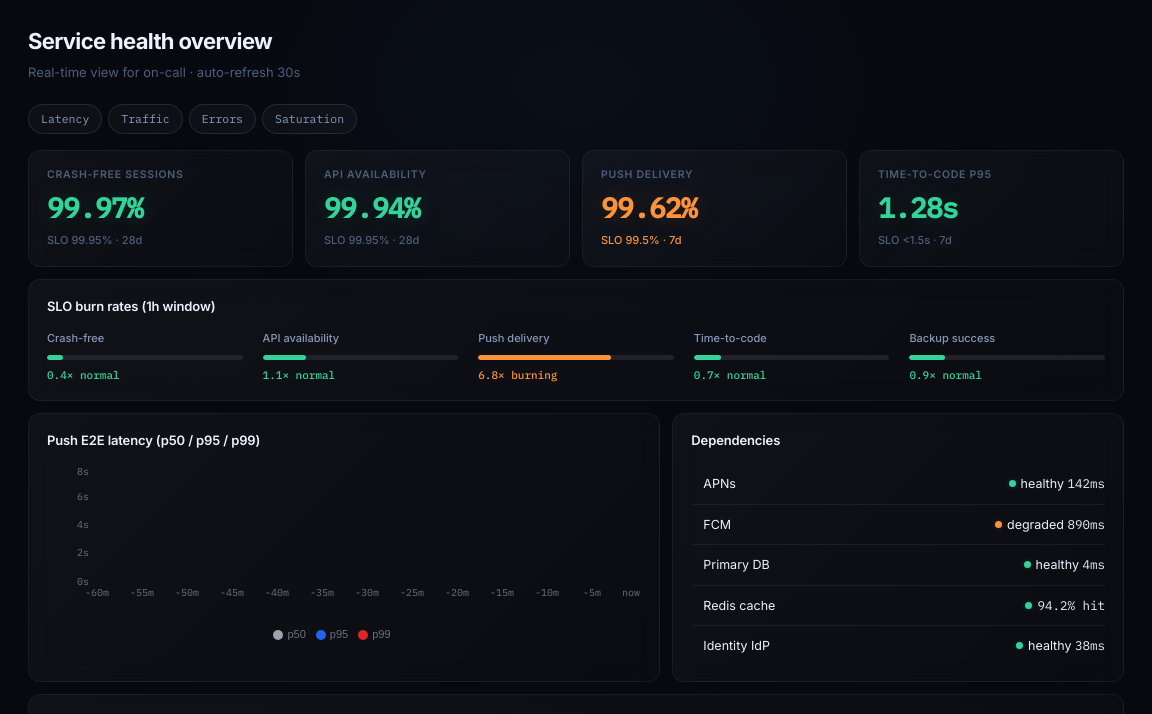
Scenario: SREDashboard — golden signal filter › hides "✕ clear" button after deselecting via the same pill
Click the button "Latency" at (65, 119), box [28,104,102,134]
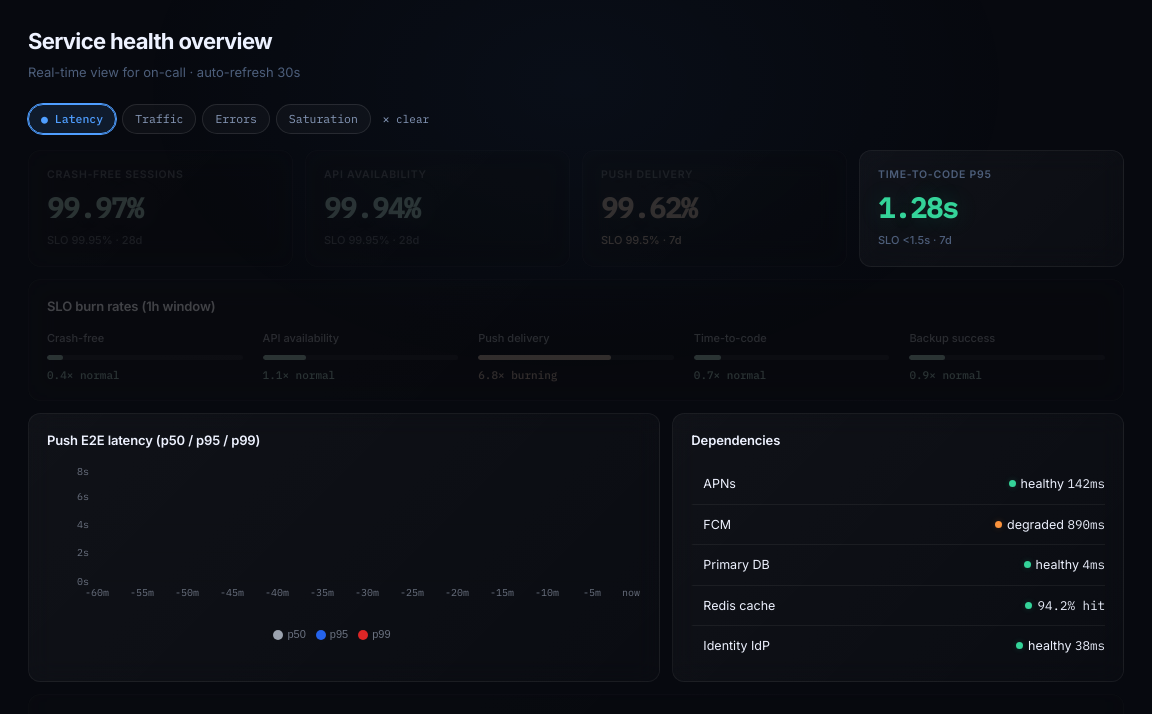
Click the button "● Latency" at (72, 119), box [28,104,116,134]
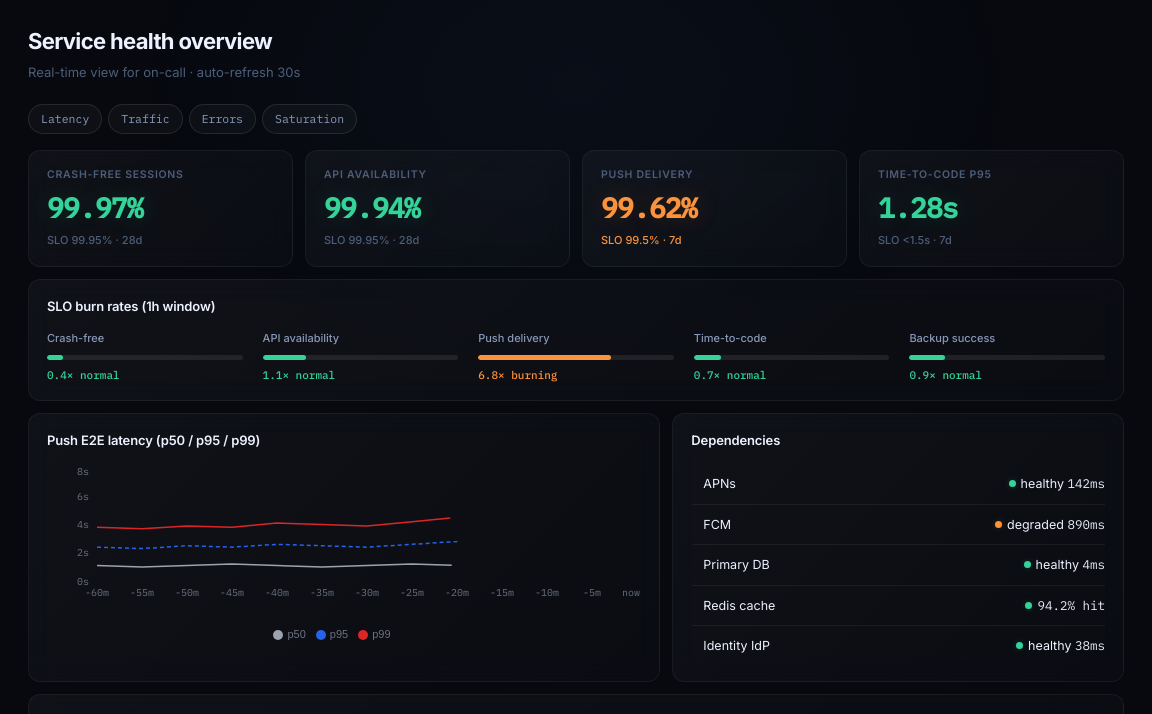
Expected: the button "clear" is gone
